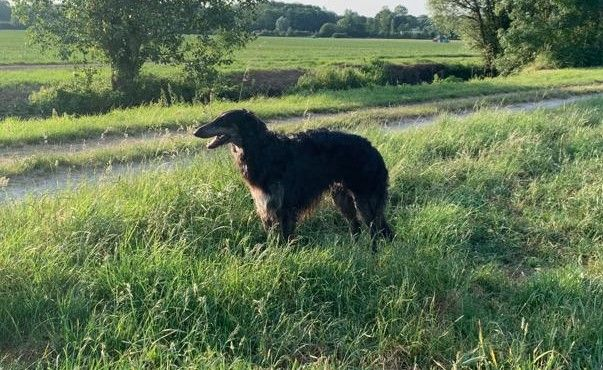borzoi: (191, 101, 398, 243)
